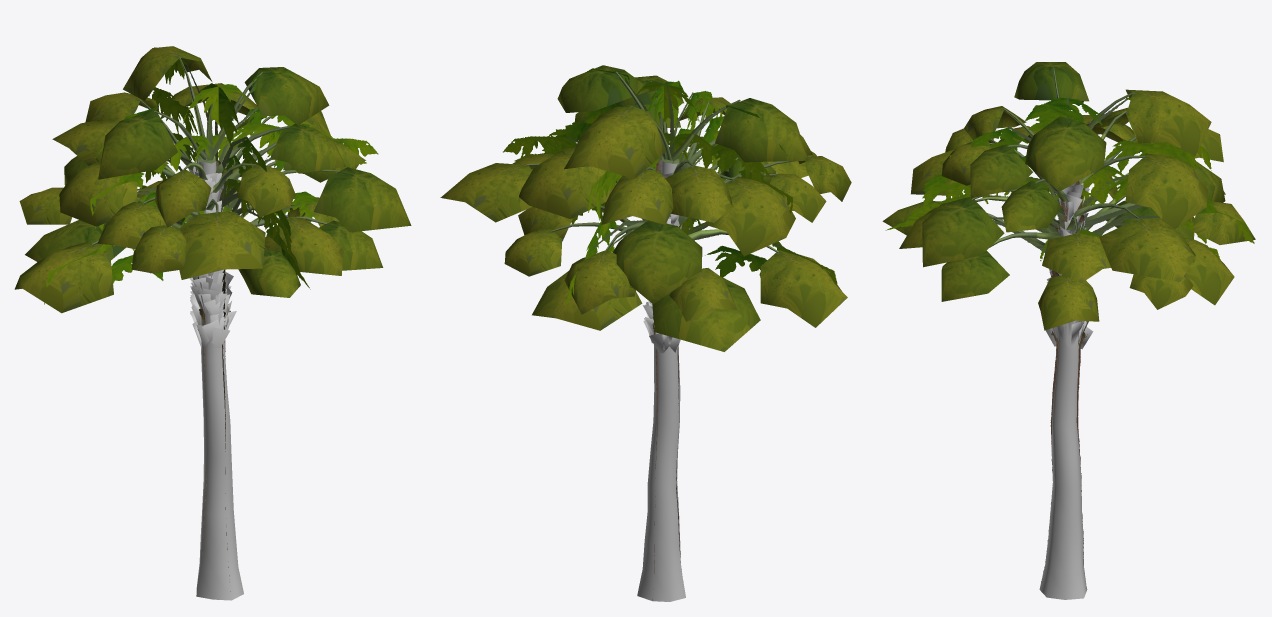
Rendered from Papaya2.fbx.
3 renders of one model, left to right at view 1: azimuth 30°, elevation 25°; view 2: azimuth 150°, elevation 25°; view 3: azimuth 270°, elevation 25°, orthographic. The views are drawn at different scales.
Visible parts, largest first — view 1: LOD0, Billboard; view 2: LOD0, Billboard; view 3: LOD0, Billboard.
Part boxes in pixels (left/top/right/bottom): LOD0: left=14, top=46, right=411, bottom=600; Billboard: left=44, top=47, right=378, bottom=591; LOD0: left=440, top=65, right=851, bottom=601; Billboard: left=503, top=68, right=837, bottom=600; LOD0: left=882, top=62, right=1255, bottom=599; Billboard: left=885, top=97, right=1254, bottom=589.
Size of what is drawn, in the model's own units: 330 by 458 by 315.
